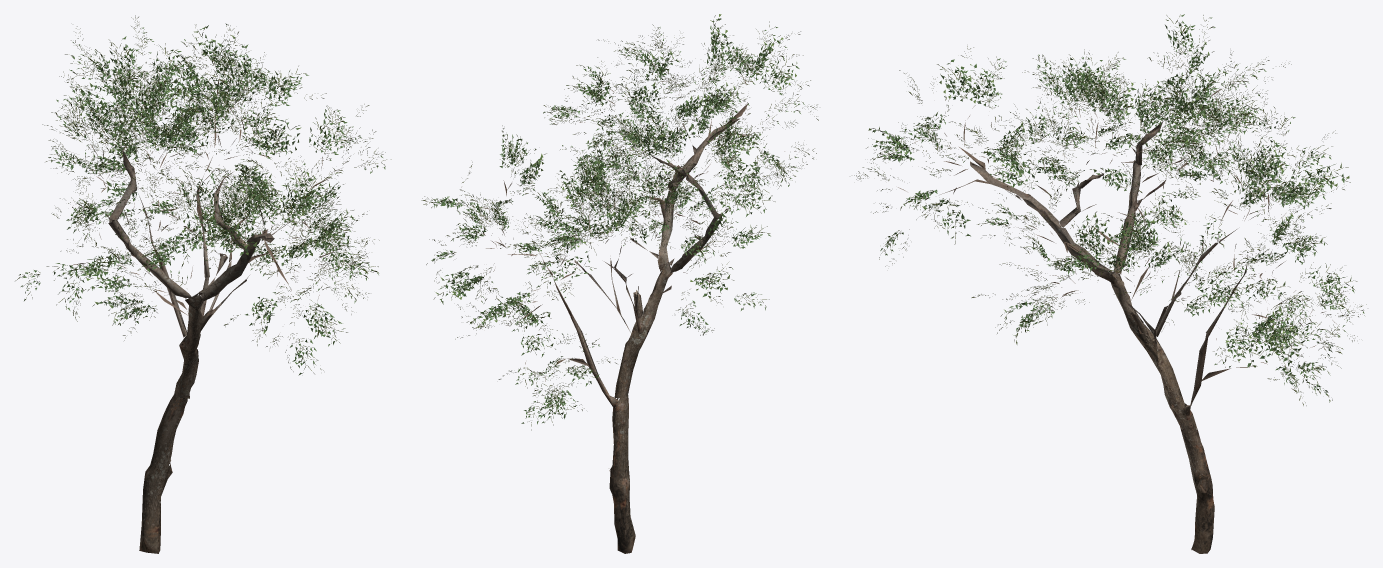
Rendered from tree_small_02.fbx.
3 views of the same model, side by side, from view 1: azimuth 30°, elevation 25°; view 2: azimuth 150°, elevation 25°; view 3: azimuth 270°, elevation 25° (orthographic). The views are drawn at different scales.
Visible parts, largest first — view 1: tree_small_02; view 2: tree_small_02; view 3: tree_small_02.
Part boxes in pixels (bbox=[...]): tree_small_02: bbox=[15, 15, 391, 553]; tree_small_02: bbox=[421, 14, 818, 553]; tree_small_02: bbox=[854, 14, 1366, 553].
Size of the model in its own units: 288 by 454 by 427.
3 materials, 3 textured.
